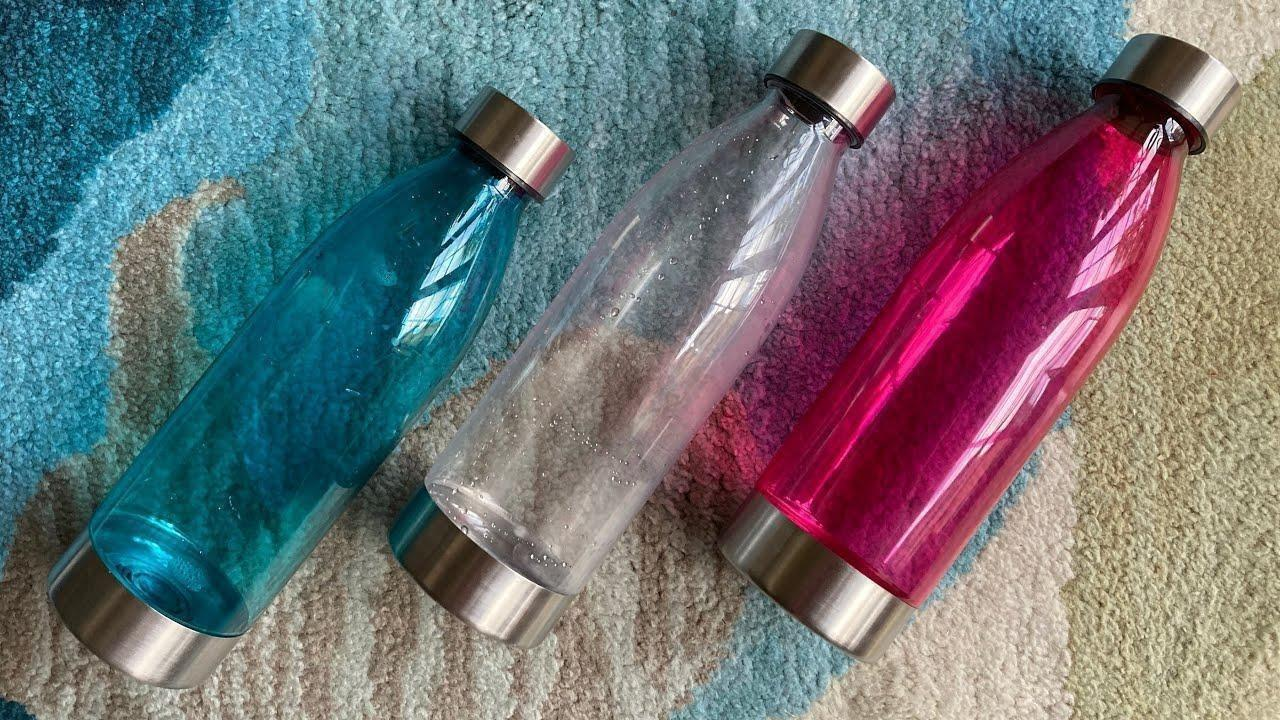gym bottle: (723, 30, 1237, 655), (47, 85, 573, 689), (390, 26, 894, 640)
